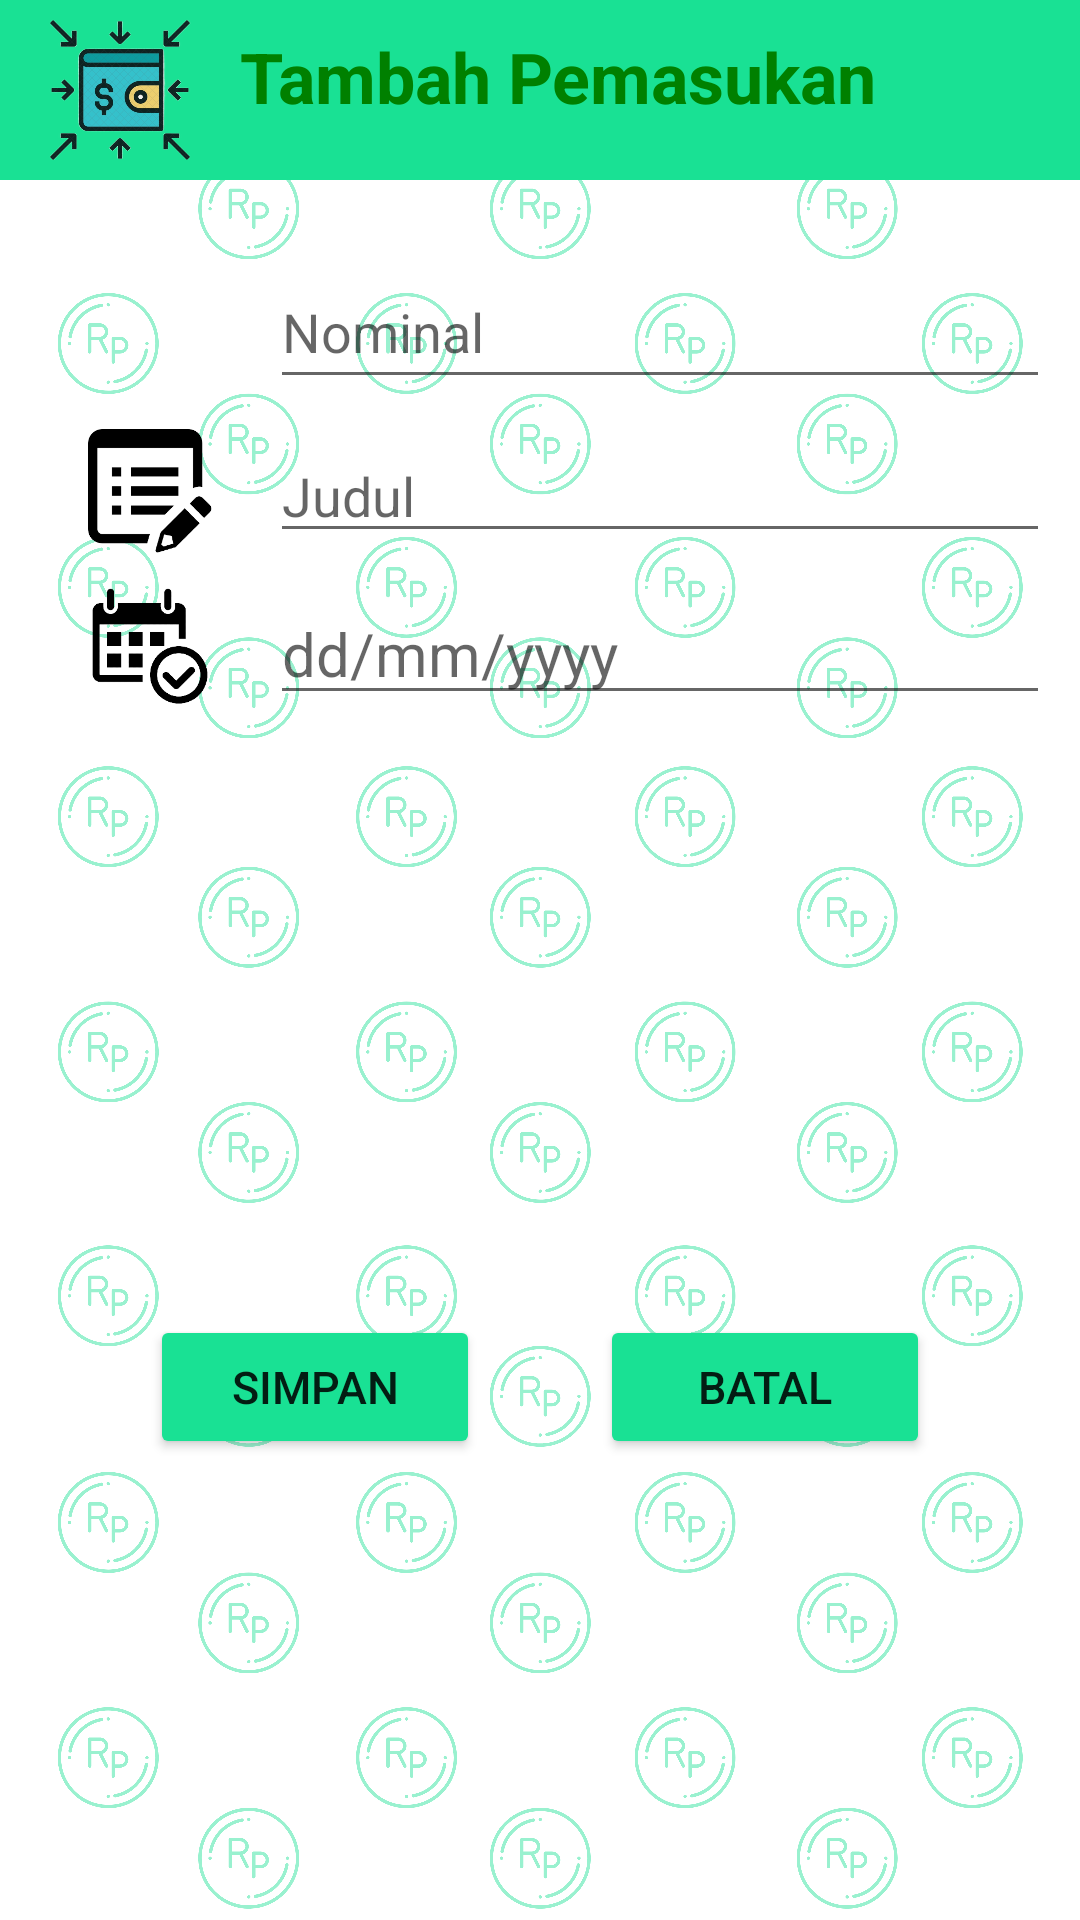

Icon bounding boxes for this 1080×1920 phone screenshot, format (x1, y1, x2, y2):
calendar: (58, 583, 270, 715)
income: (50, 20, 190, 160)
